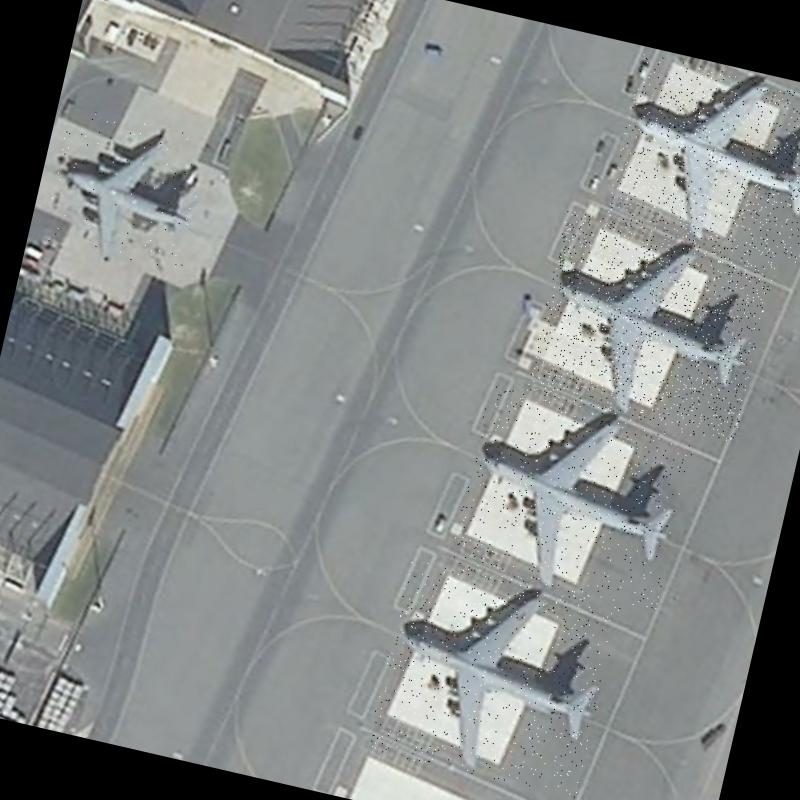A3: (38, 106, 212, 274)
A4: (366, 558, 620, 798), (524, 209, 776, 442), (447, 382, 697, 616), (604, 52, 800, 265)
